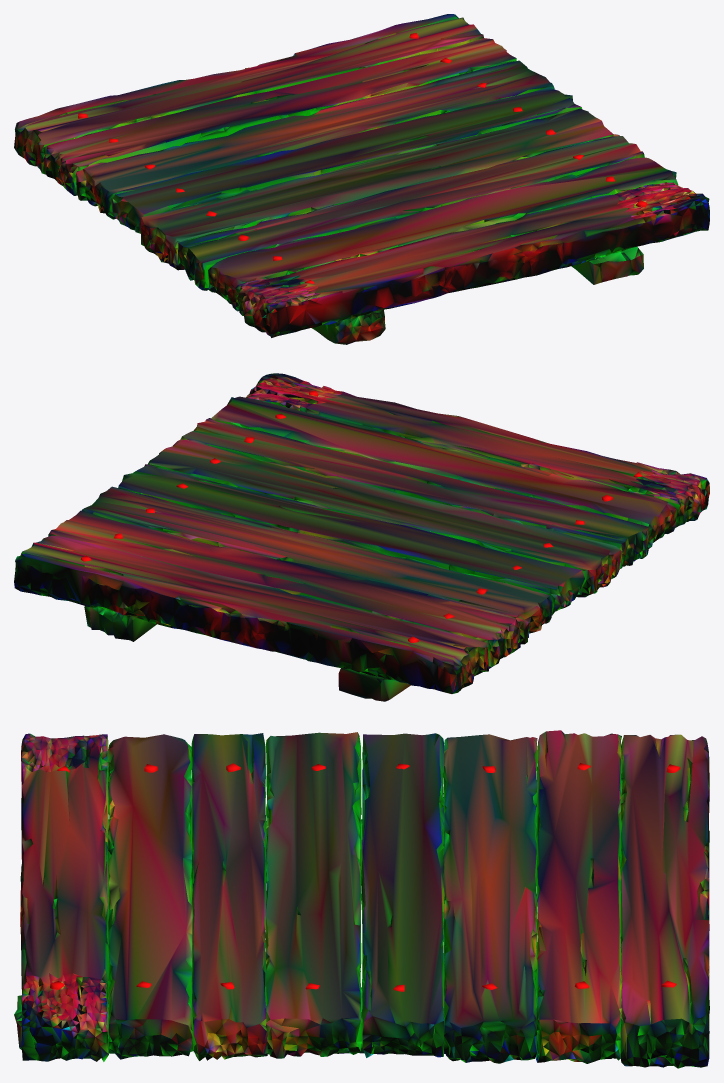
The model's file is SM_Wood_Ceiling.fbx.
The picture shows the model from 3 angles, top to bottom: view 1: azimuth 30°, elevation 25°; view 2: azimuth 150°, elevation 25°; view 3: azimuth 270°, elevation 25°; orthographic projection. The views are drawn at different scales.
Parts seen in each view (by area): view 1: SM_Wood_Ceiling_LOD0; view 2: SM_Wood_Ceiling_LOD0; view 3: SM_Wood_Ceiling_LOD0.
Boxes of the visible parts, x1=… form: SM_Wood_Ceiling_LOD0: x1=14, y1=14, x2=709, y2=344; SM_Wood_Ceiling_LOD0: x1=14, y1=373, x2=709, y2=701; SM_Wood_Ceiling_LOD0: x1=14, y1=730, x2=709, y2=1068.
Bounding box in the file's own units: 307 × 305 × 41.26.
